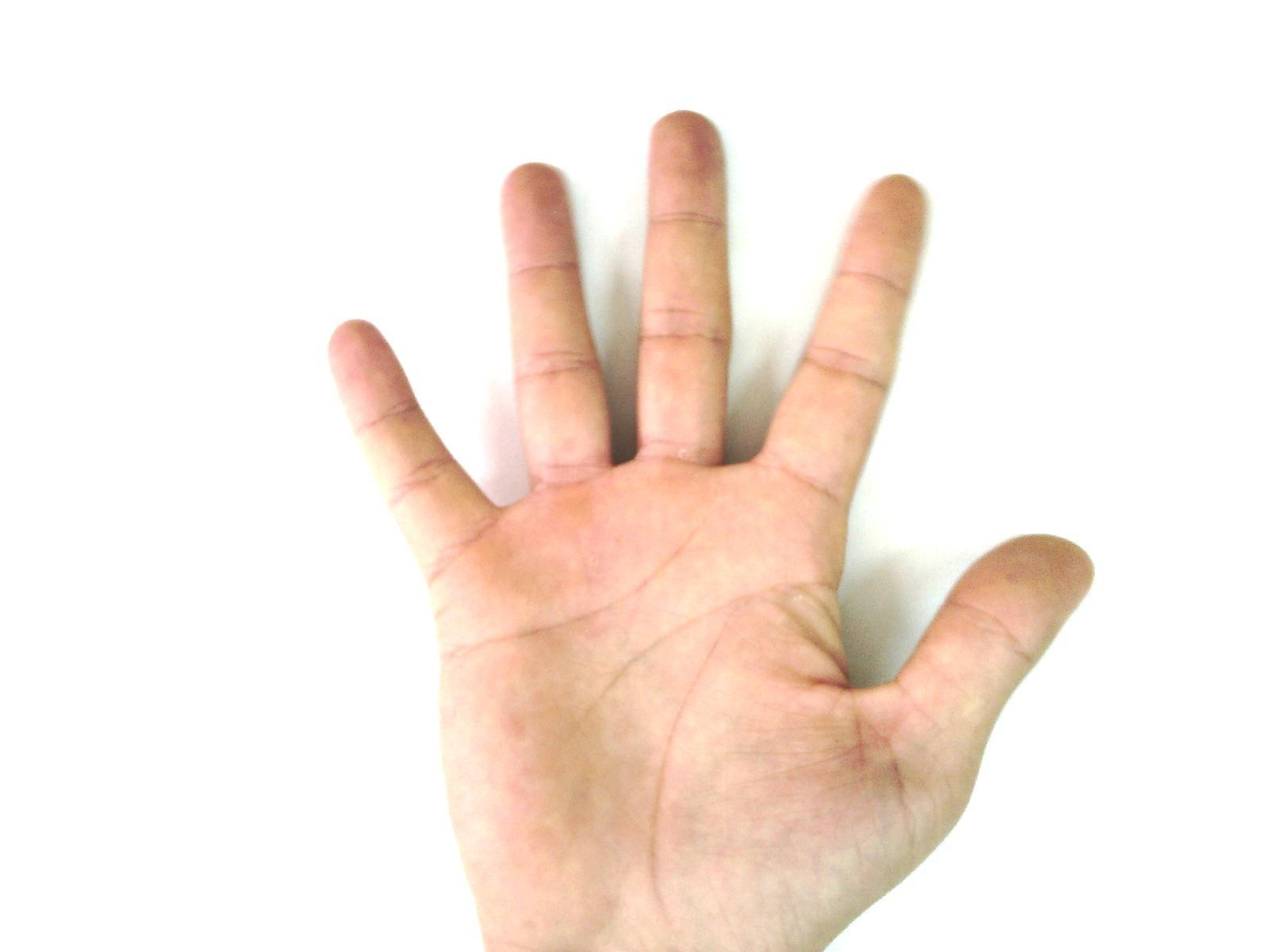open_palm: (324, 109, 1097, 951)
